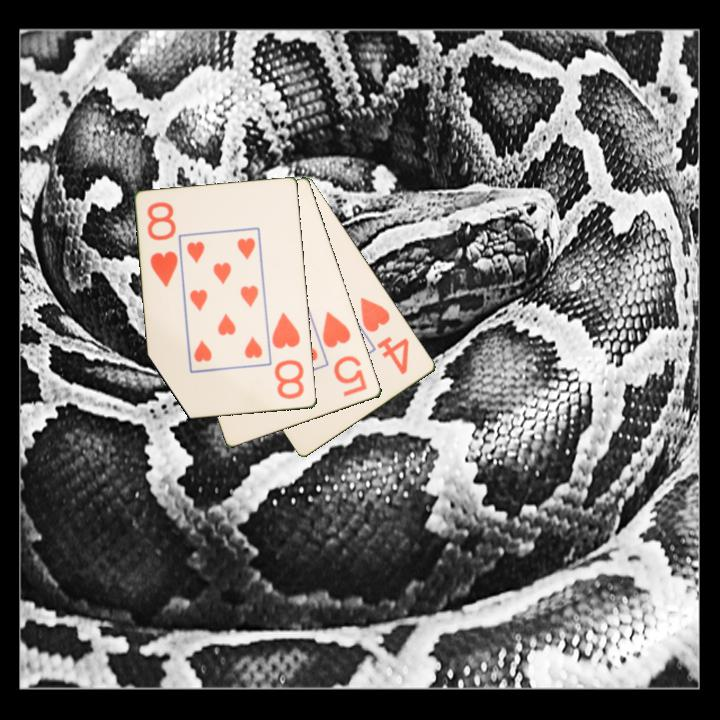4h: (357, 294, 412, 378)
5h: (319, 308, 370, 400)
8h: (269, 309, 307, 403), (144, 198, 181, 290)
